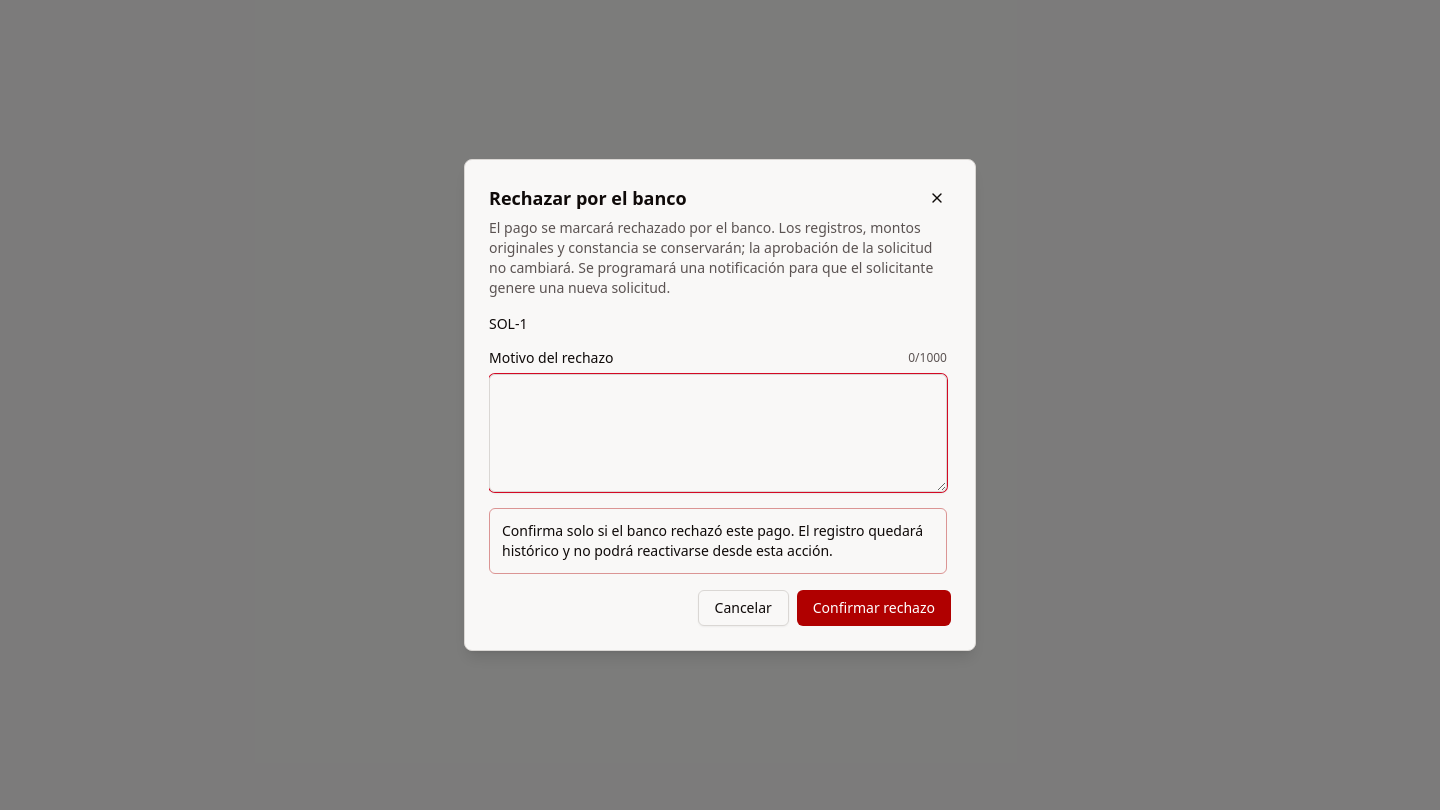
Test: reused bank reason modal › reconciles ambiguous failure, retains reason and prevents blind resubmission
Type "Cuenta cerrada" into the text box labelled "Motivo del rechazo" at x=718, y=433, box [489,374,947,492]
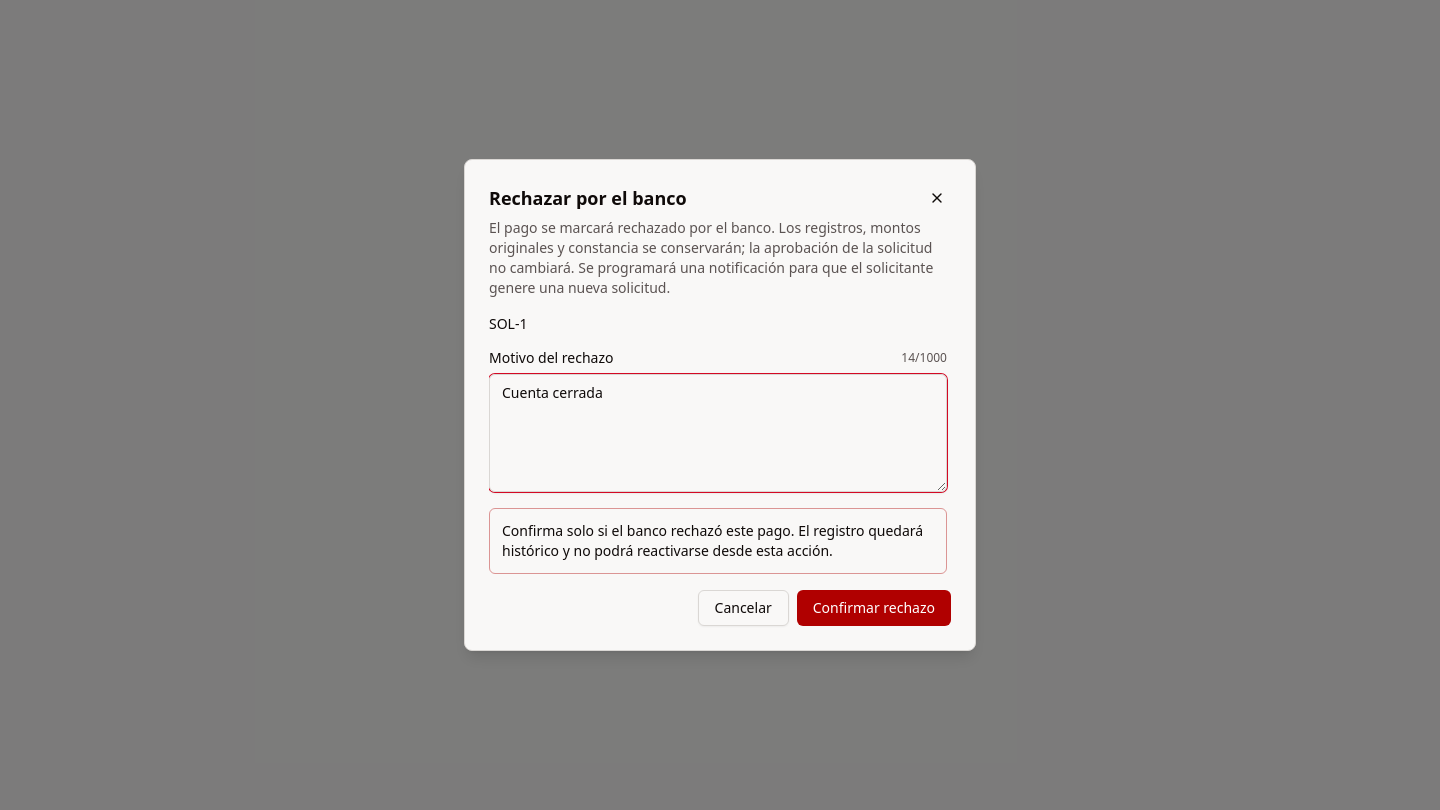
Click the button "Confirmar rechazo" at x=874, y=608, box [797,590,951,626]
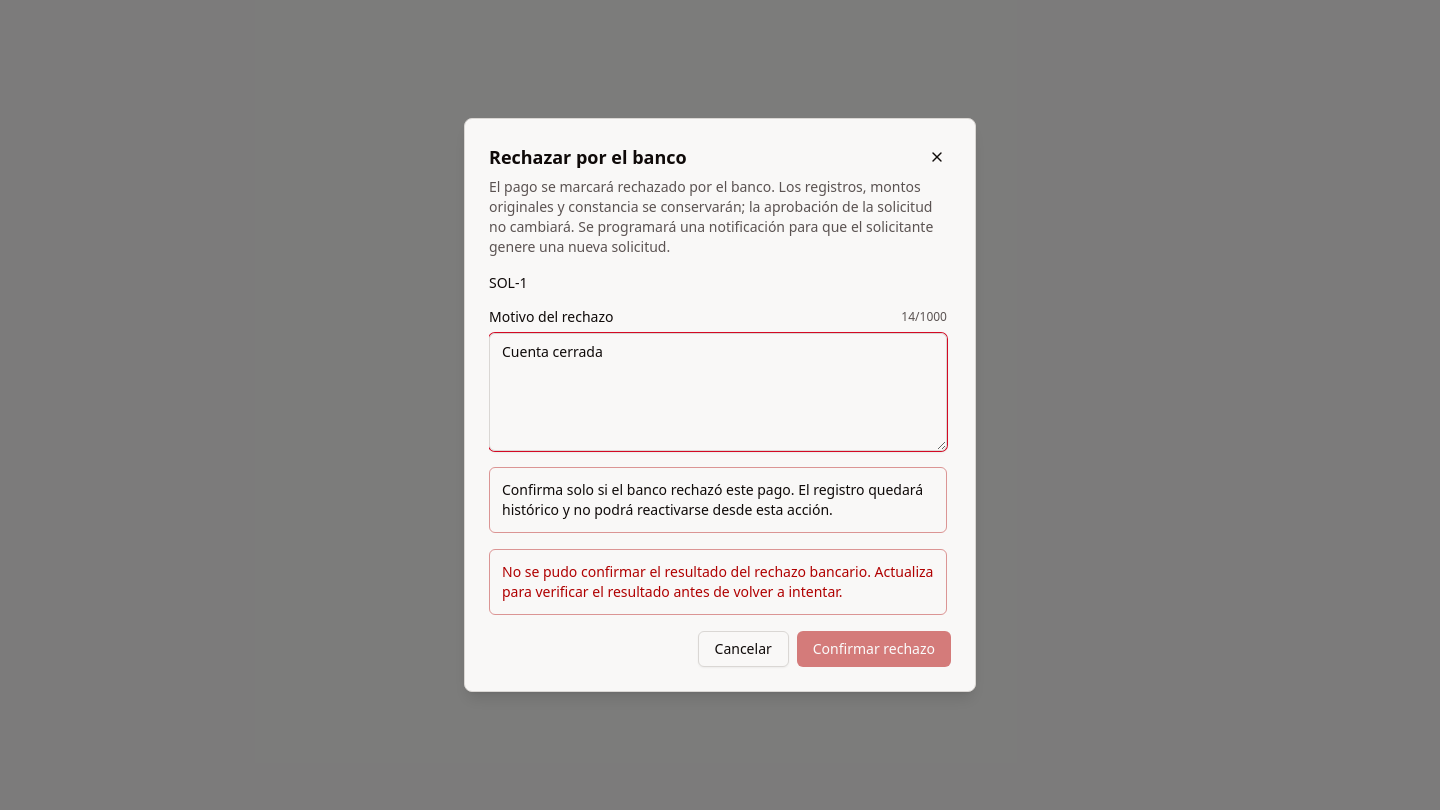
Expected: the message does not show "private SQL", [489,549,947,615]
Now the message shows "Actualiza para verificar", box [502,562,933,601]
Now the button "Confirmar rechazo" is disabled, box [797,631,951,667]
